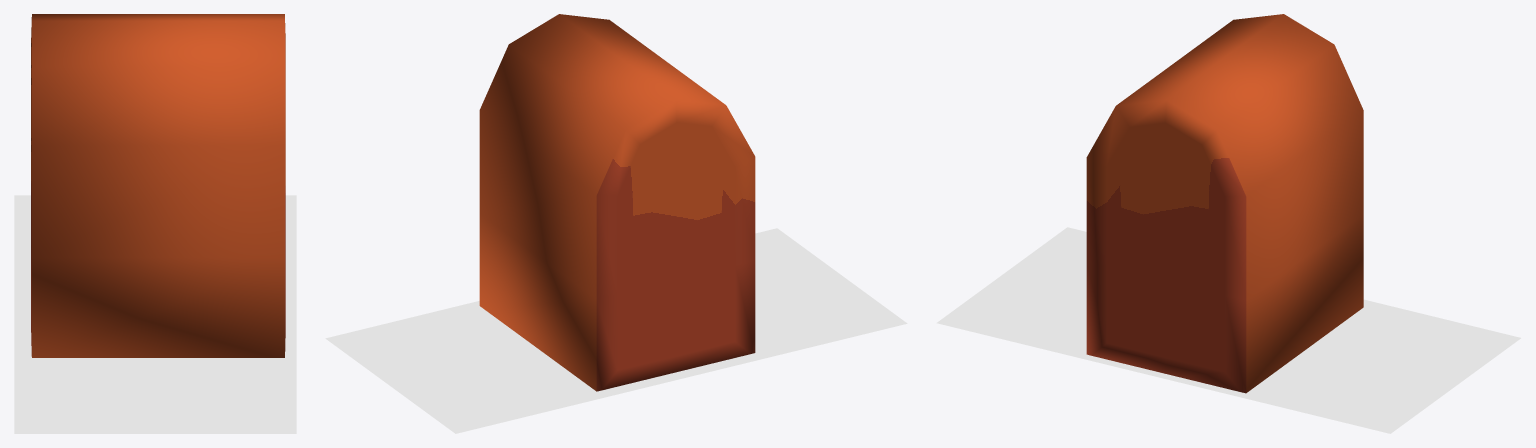
The model's file is NormalContent.fbx.
3 views of the same model, side by side, from view 1: azimuth 30°, elevation 25°; view 2: azimuth 150°, elevation 25°; view 3: azimuth 270°, elevation 25° (orthographic). The views are drawn at different scales.
Parts seen in each view (by area): view 1: BasicObstacle, Shadow; view 2: BasicObstacle, Shadow; view 3: BasicObstacle, Shadow.
Part boxes in pixels (left/top/right/bottom): BasicObstacle: left=31, top=14, right=285, bottom=357; Shadow: left=14, top=195, right=296, bottom=433; BasicObstacle: left=479, top=14, right=755, bottom=391; Shadow: left=325, top=228, right=907, bottom=433; BasicObstacle: left=1086, top=14, right=1363, bottom=393; Shadow: left=936, top=227, right=1520, bottom=433.
Bounding box in the file's own units: 1.27 × 0.7985 × 1.52.
